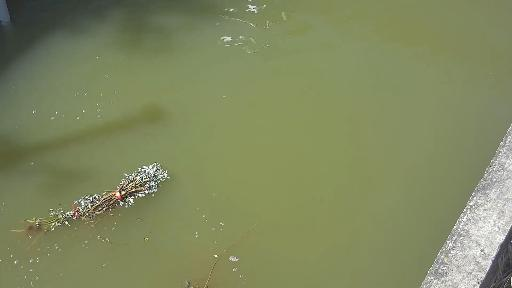twig: (24, 161, 177, 232)
